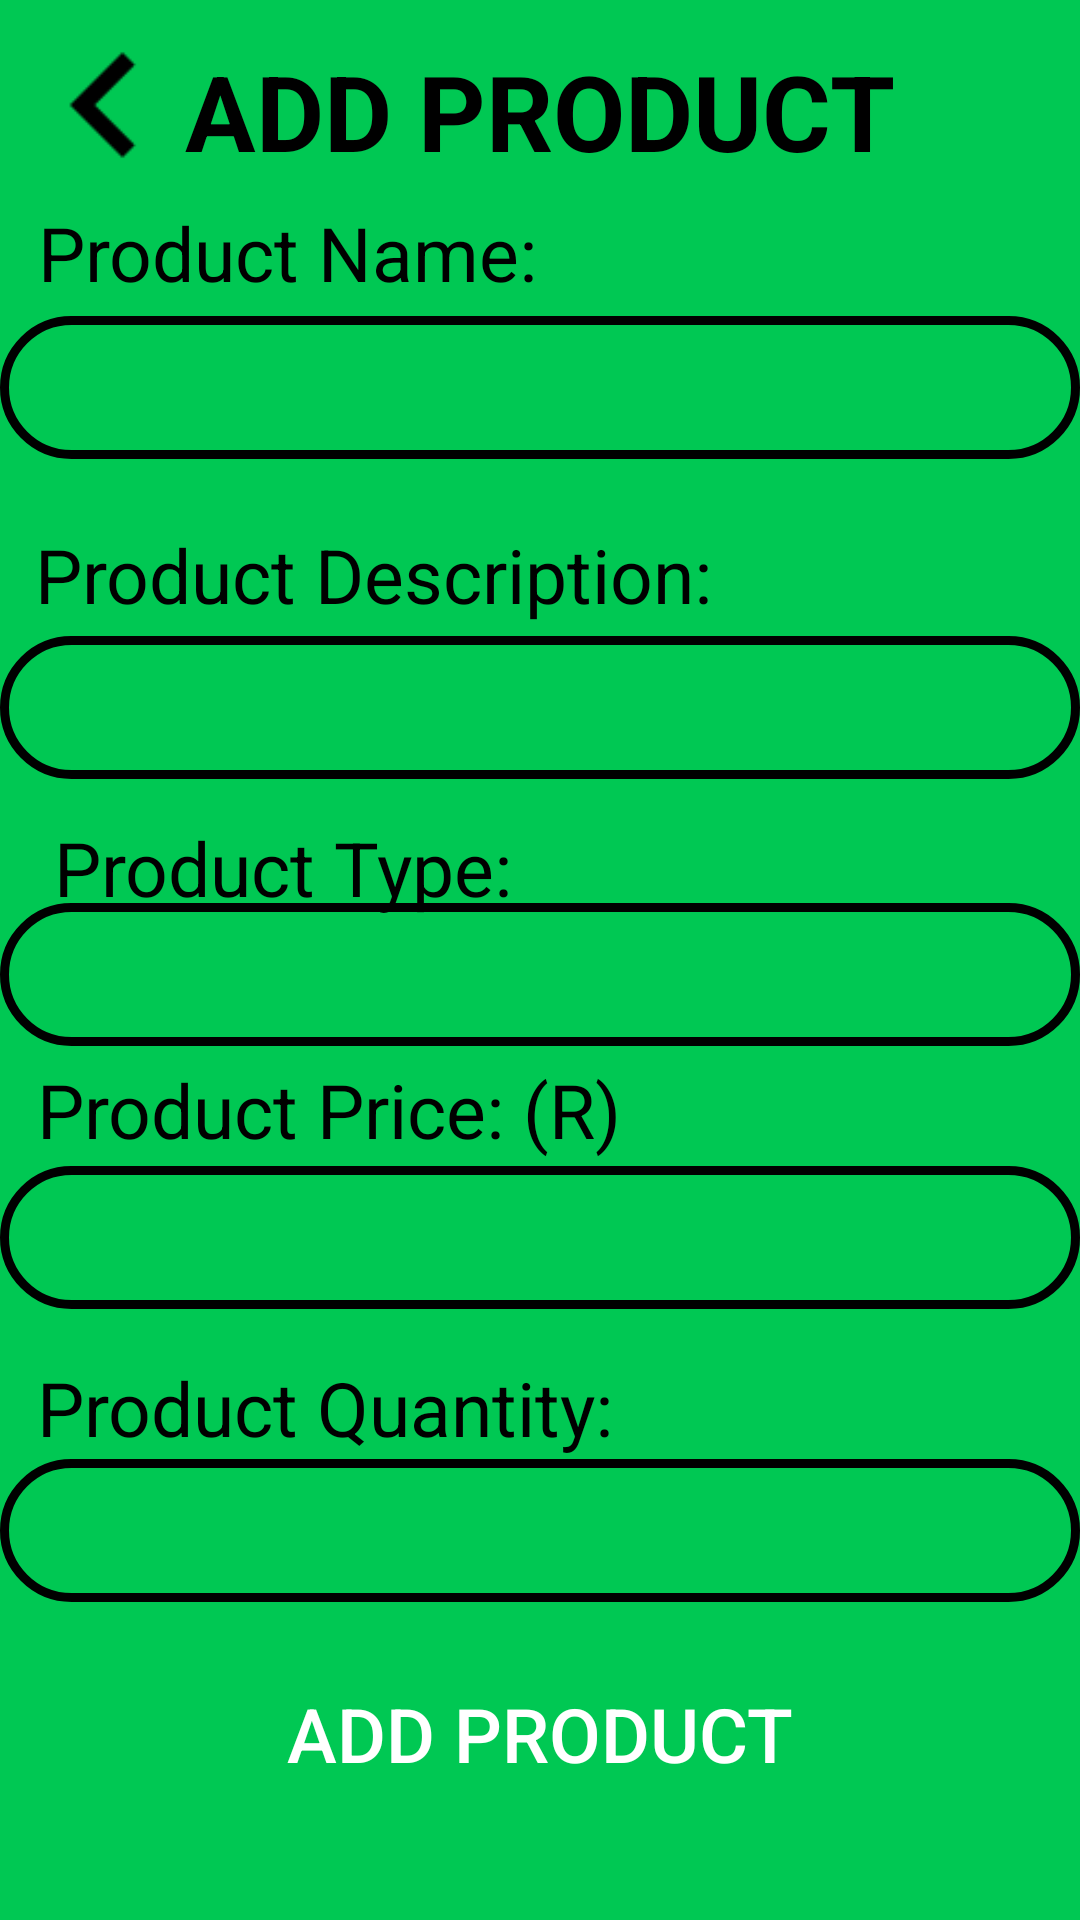

Screen size 1080*1920. Icon name, then its center in pixels as [x,y]:
next reversed: [102,105]
